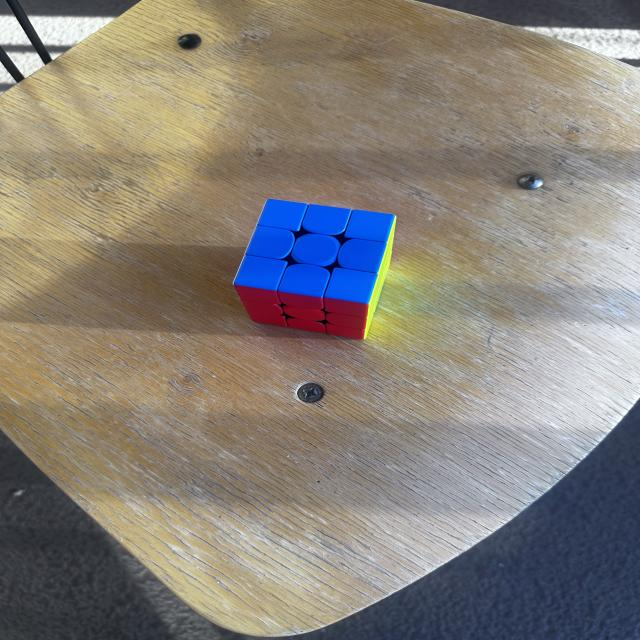sticker: (324, 268, 379, 316), (279, 263, 332, 309), (234, 255, 287, 295), (335, 238, 388, 274), (254, 199, 308, 234), (342, 209, 395, 244), (245, 226, 296, 262), (302, 203, 352, 237), (291, 233, 340, 267), (238, 296, 286, 324), (325, 312, 366, 330)
